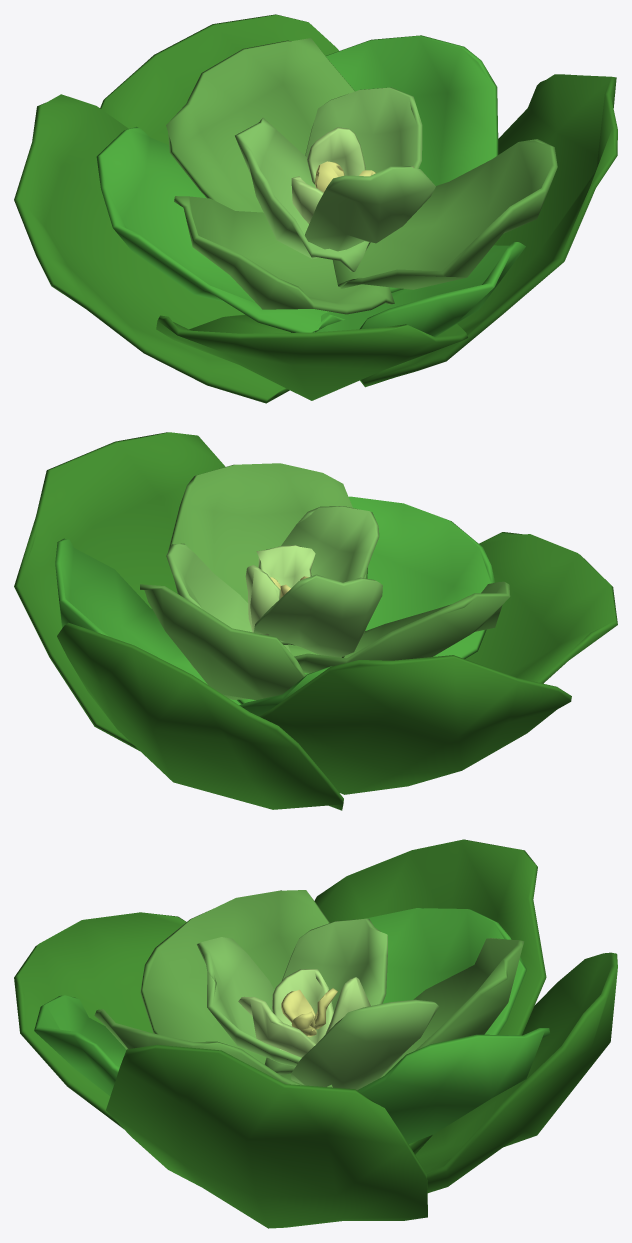
File: fbx_salad_big.fbx
3 renders of one model, top to bottom at view 1: azimuth 30°, elevation 25°; view 2: azimuth 150°, elevation 25°; view 3: azimuth 270°, elevation 25°, orthographic. The views are drawn at different scales.
Parts seen in each view (by area): view 1: BigSalad; view 2: BigSalad; view 3: BigSalad.
Boxes of the visible parts, bbox=[...] form: BigSalad: bbox=[14, 14, 617, 403]; BigSalad: bbox=[14, 432, 617, 810]; BigSalad: bbox=[14, 839, 617, 1228].
Size of the model in its own units: 109 by 49.95 by 98.93.
